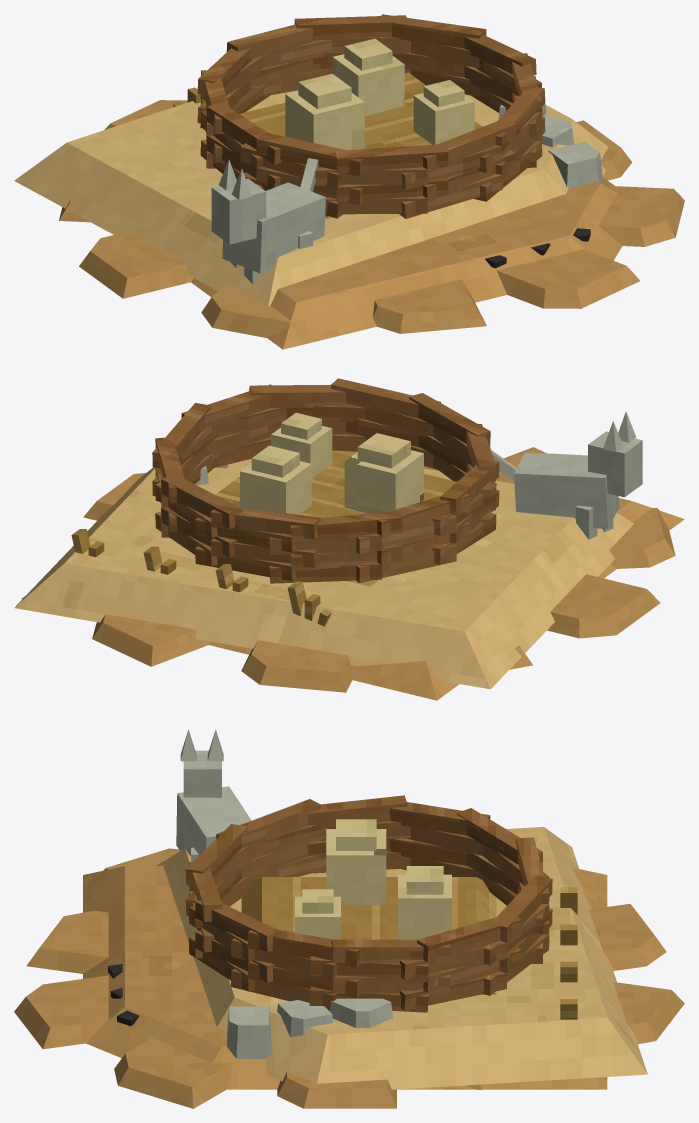
The model's file is basilisk_lair_v1.glb.
3 views of the same model, one above another, from view 1: azimuth 30°, elevation 25°; view 2: azimuth 150°, elevation 25°; view 3: azimuth 270°, elevation 25° (orthographic). The views are drawn at different scales.
Visible parts, largest first — view 1: Model; view 2: Model; view 3: Model.
Part boxes in pixels (x1,y1,x2,y2): Model: (14, 14, 684, 349); Model: (14, 378, 684, 700); Model: (14, 729, 684, 1108).
Size of the model in its own units: 1.27 by 0.3308 by 1.34.
1 material, 1 textured.
